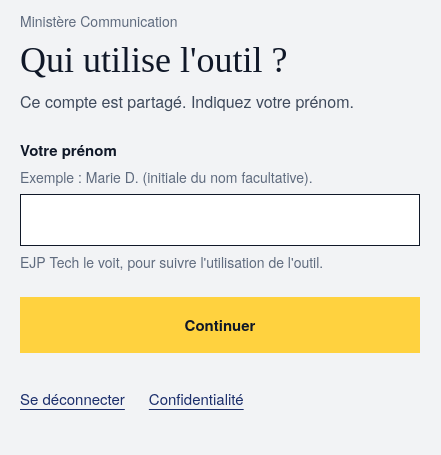
Test: EcranDeclaration (T56) › vide : le message, rien n’est envoyé, le bouton reste actif
Click the button named "Continuer" at (220, 325), box [20, 297, 420, 353]
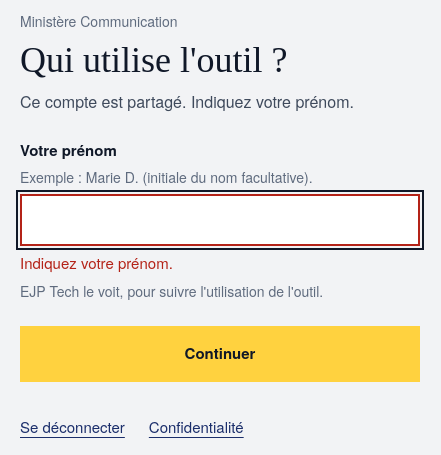
Now the text "Indiquez votre prénom." is shown, box [20, 252, 173, 273]
